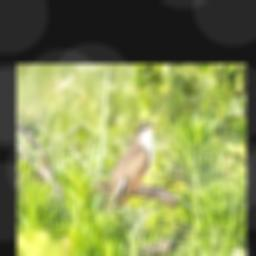Cuckoo: (105, 120, 158, 215)
